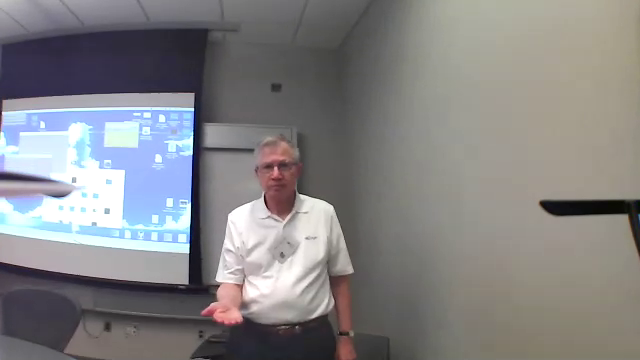land: (195, 296, 252, 330)
